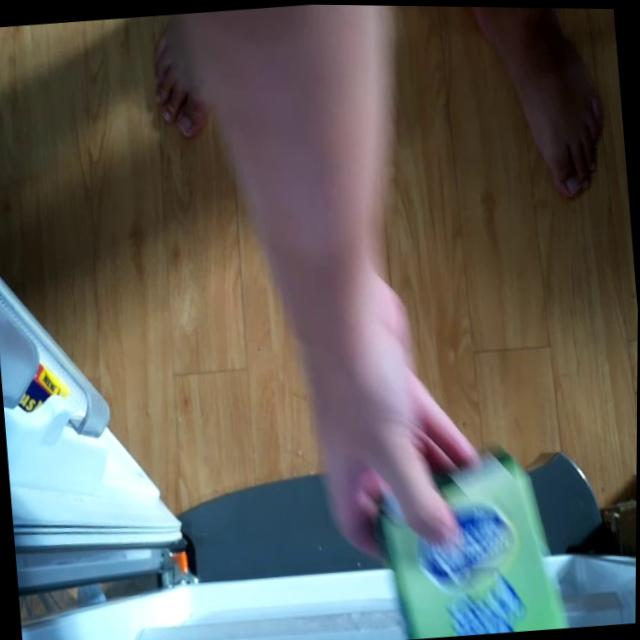milk: (375, 441, 564, 640)
